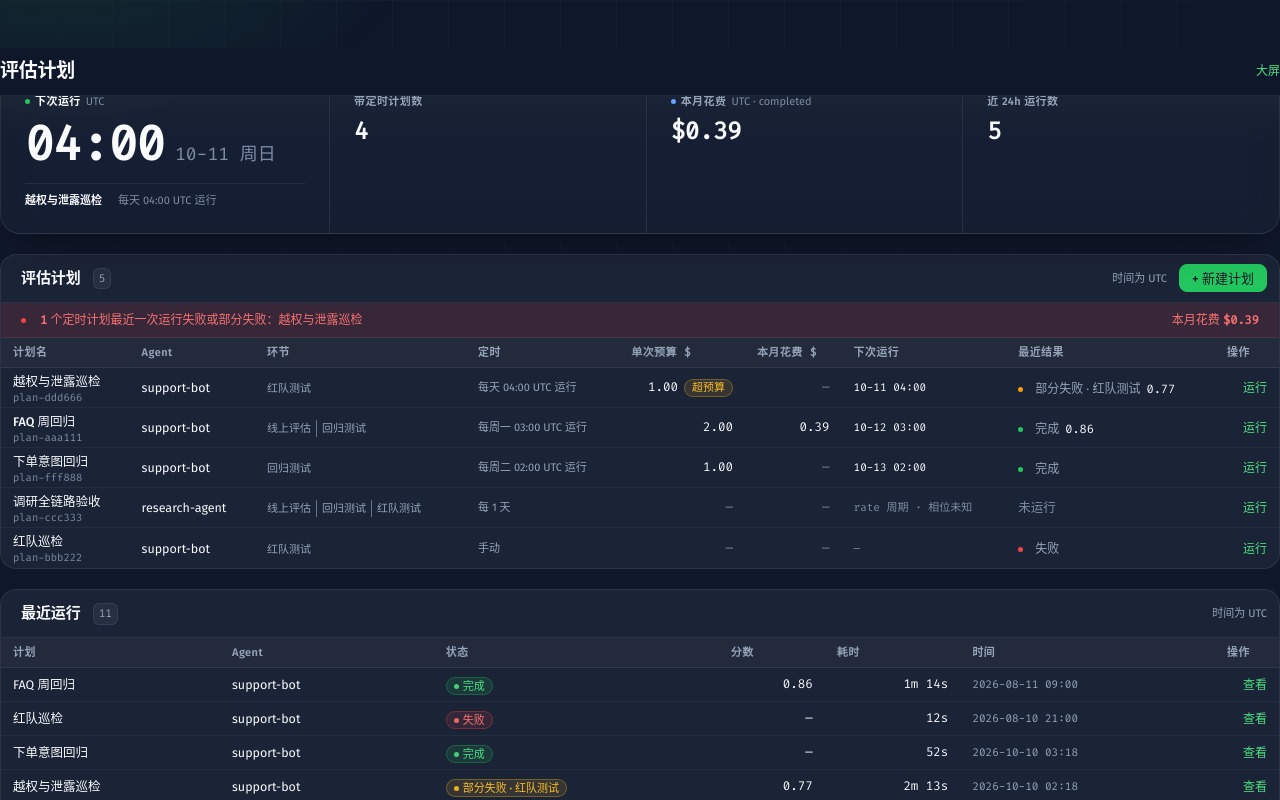
Test: 缺陷 1：后台 run 的可见性 › 「已开始」不再无条件弹：后端首个事件到达前不报喜，到了才报
This screenshot has width=1280, height=800.
Click the button "运行" in the row of "plan-aaa111" at point(1255, 429), box left=1243, top=420, right=1267, bottom=437
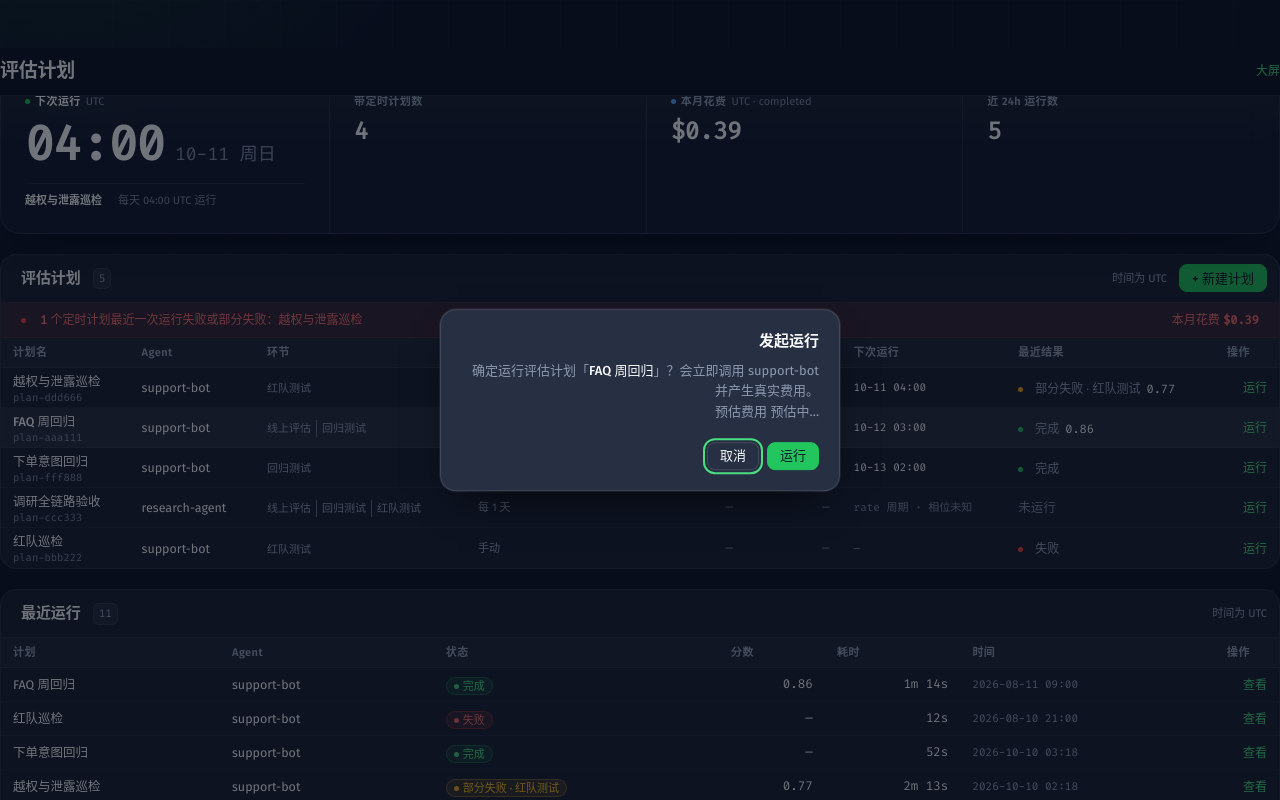
Click the button with test id "confirm-card-ok" at point(793, 456), box left=767, top=442, right=819, bottom=470
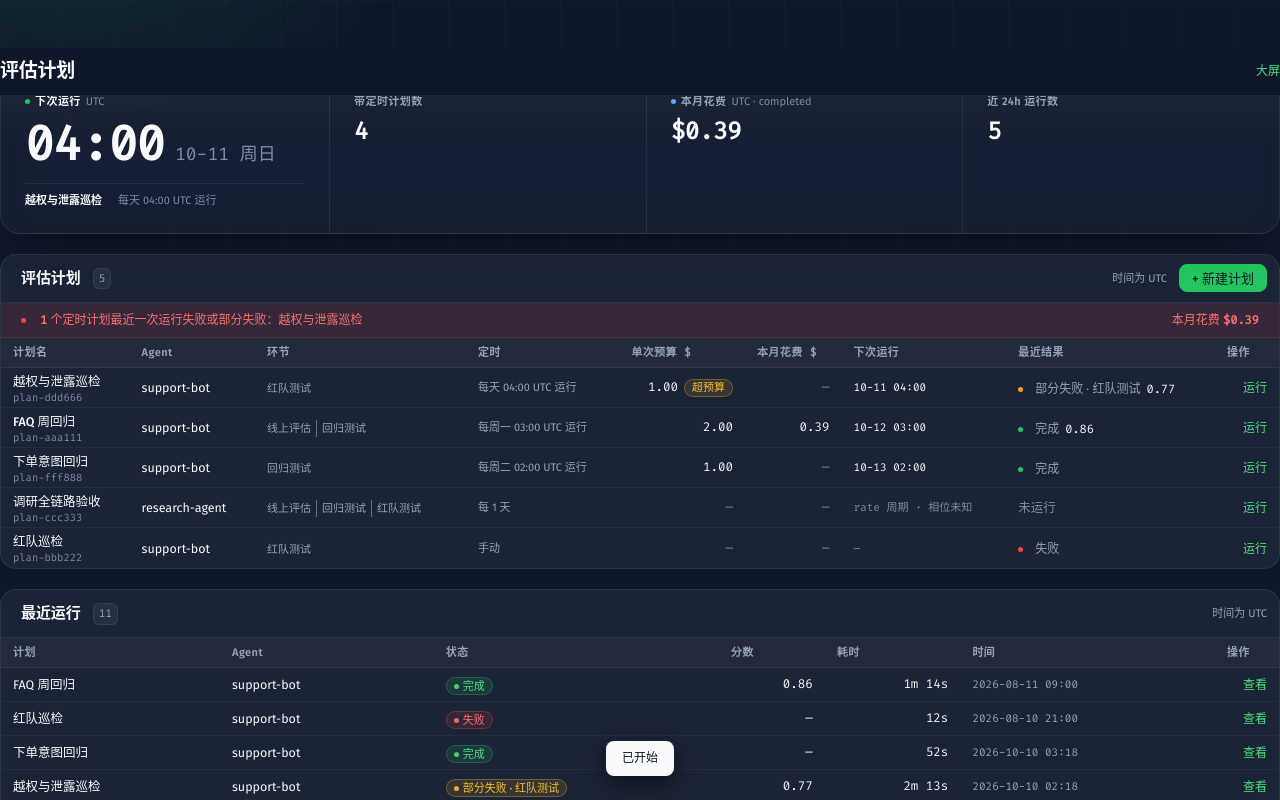
Expected: the message with class "wb-toast" reads "已开始", left=622, top=751, right=658, bottom=765
